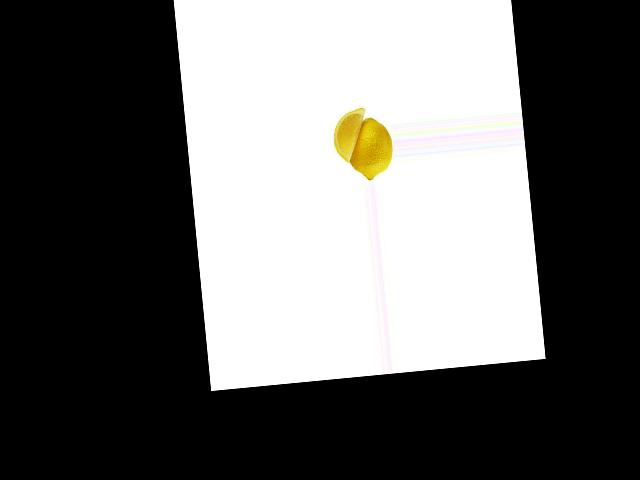lemon: (344, 112, 395, 183)
